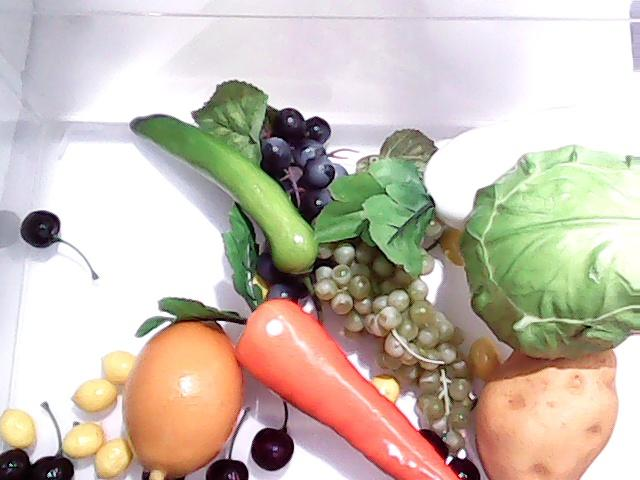cabbage: (456, 136, 640, 370)
carrot: (133, 200, 463, 480)
grape: (308, 242, 478, 456), (247, 103, 333, 308)
lemon: (102, 305, 266, 477)
pepper: (136, 107, 324, 266)
potato: (474, 340, 620, 480)
radish: (316, 105, 640, 283)
